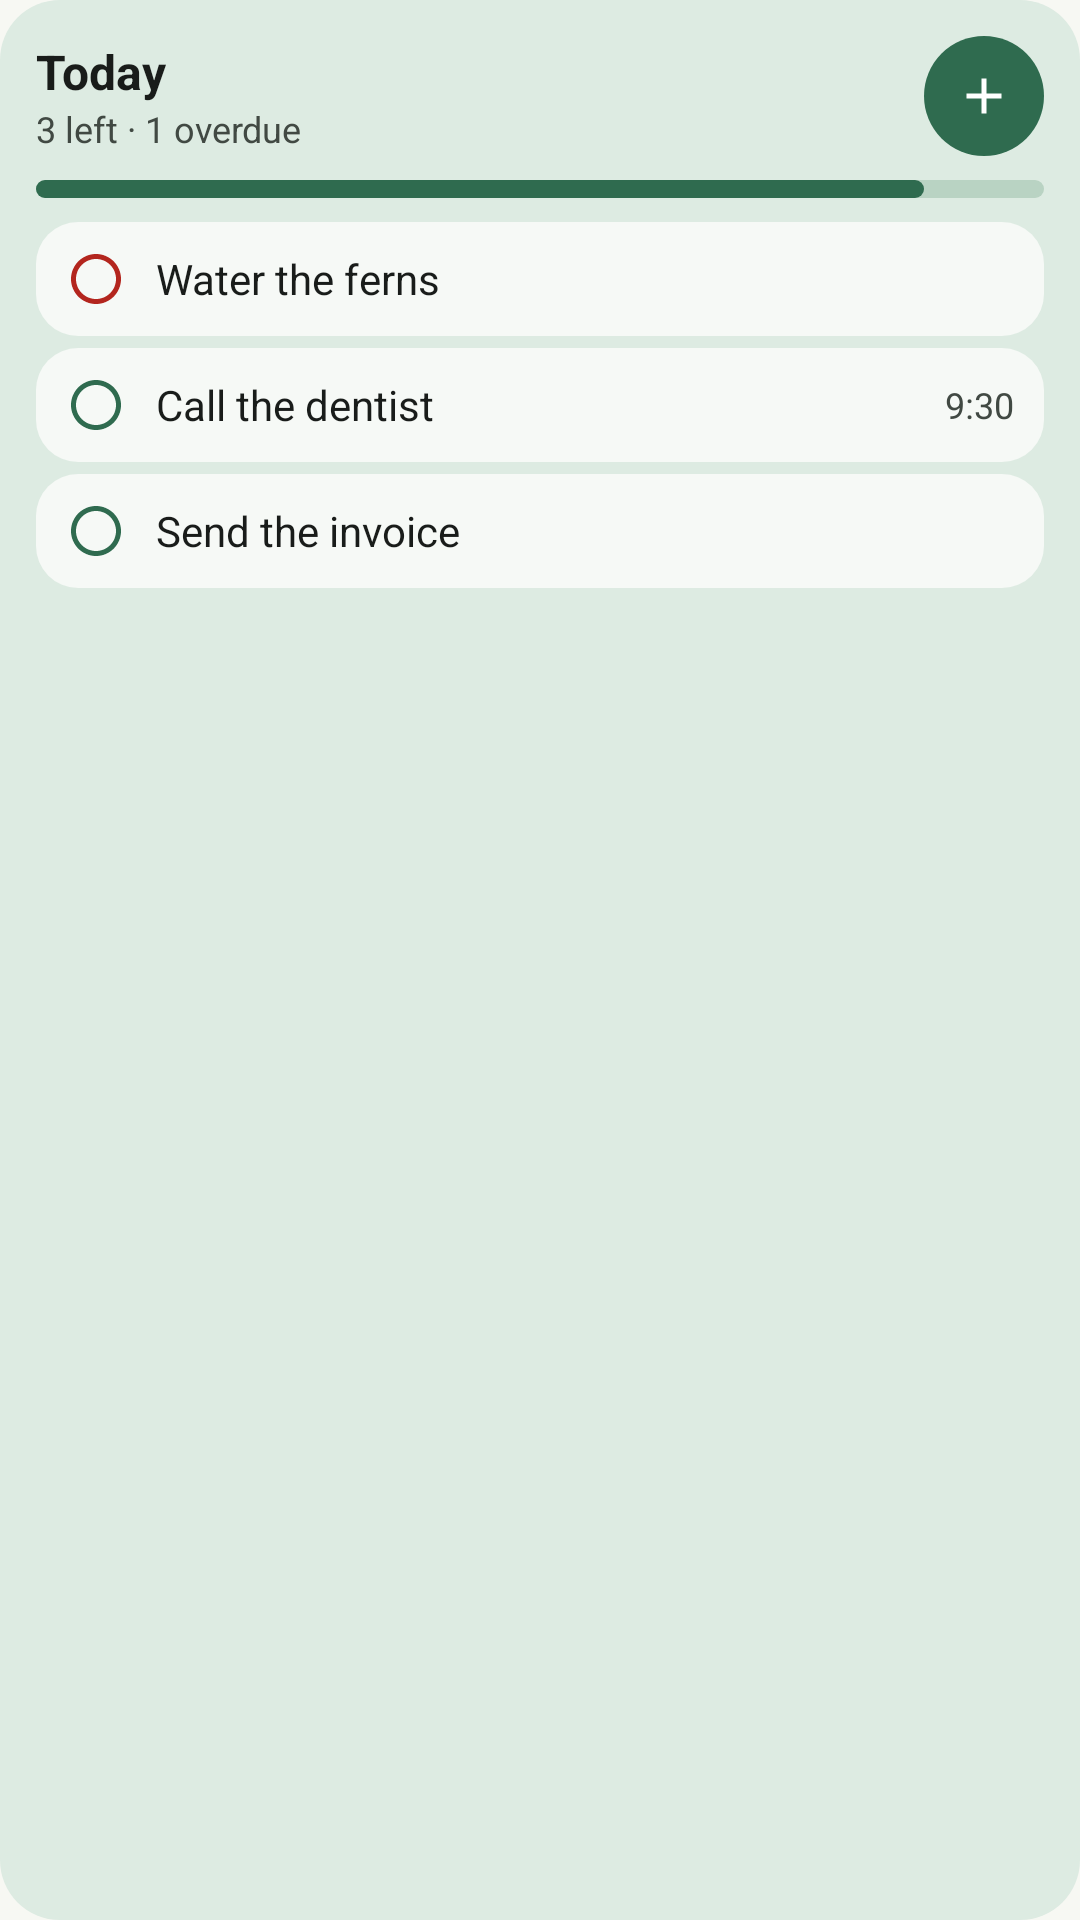

Where to tap for icons on this 1080px×1920px app screen, as [x,y]:
widget add: [984,96]
